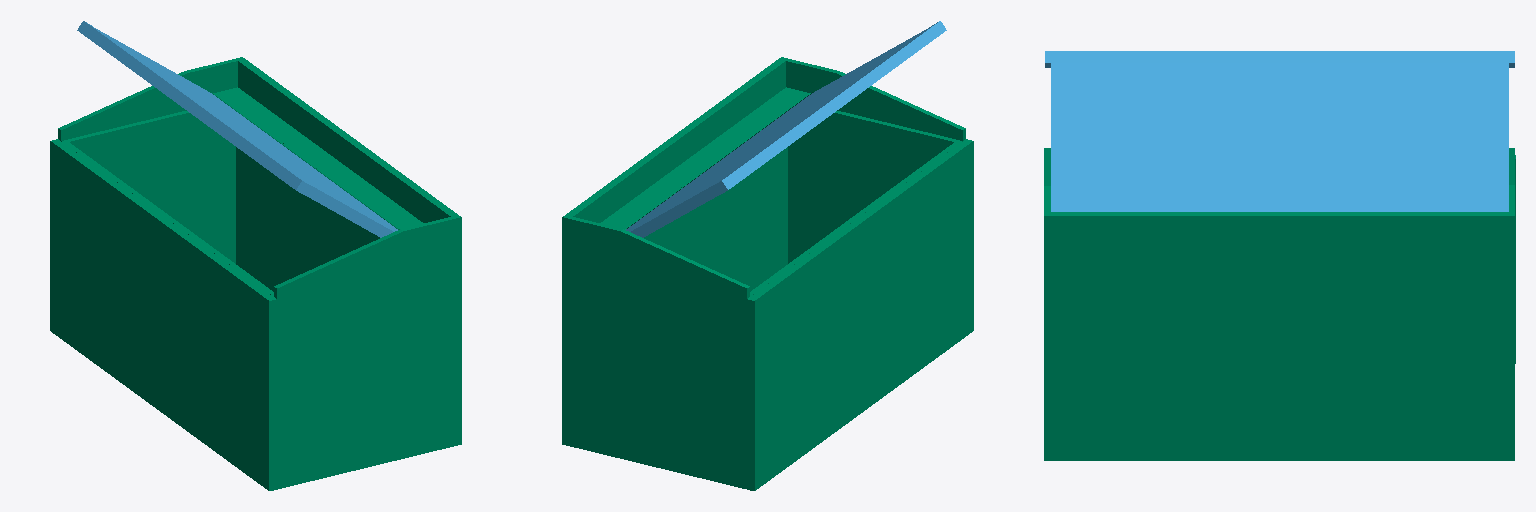
URDF robot description (partnet_c7a2224b009756cc226245d28c34a910):
<?xml version="1.0" ?>
<robot name="partnet_c7a2224b009756cc226245d28c34a910">
	<link name="base"/>
	<link name="link_0">
		<visual name="rotation_lid-1">
			<origin xyz="-0.7214450000000001 -0.30802655745340035 0.22906735067242812"/>
			<geometry>
				<mesh filename="textured_objs/original-5.obj"/>
			</geometry>
		</visual>
		<visual name="rotation_lid-1">
			<origin xyz="-0.7214450000000001 -0.30802655745340035 0.22906735067242812"/>
			<geometry>
				<mesh filename="textured_objs/original-6.obj"/>
			</geometry>
		</visual>
		<collision>
			<origin xyz="-0.7214450000000001 -0.30802655745340035 0.22906735067242812"/>
			<geometry>
				<mesh filename="textured_objs/original-5.obj"/>
			</geometry>
		</collision>
		<collision>
			<origin xyz="-0.7214450000000001 -0.30802655745340035 0.22906735067242812"/>
			<geometry>
				<mesh filename="textured_objs/original-6.obj"/>
			</geometry>
		</collision>
	</link>
	<joint name="joint_0" type="revolute">
		<origin xyz="0.7214450000000001 0.30802655745340035 -0.22906735067242812"/>
		<axis xyz="-1 0 0"/>
		<child link="link_0"/>
		<parent link="link_1"/>
		<limit lower="-0.6911503837897545" upper="1.5833626974092563"/>
	</joint>
	<link name="link_1">
		<visual name="base_body-2">
			<origin xyz="0 0 0"/>
			<geometry>
				<mesh filename="textured_objs/original-4.obj"/>
			</geometry>
		</visual>
		<visual name="base_body-2">
			<origin xyz="0 0 0"/>
			<geometry>
				<mesh filename="textured_objs/original-3.obj"/>
			</geometry>
		</visual>
		<visual name="base_body-2">
			<origin xyz="0 0 0"/>
			<geometry>
				<mesh filename="textured_objs/original-2.obj"/>
			</geometry>
		</visual>
		<visual name="base_body-2">
			<origin xyz="0 0 0"/>
			<geometry>
				<mesh filename="textured_objs/original-8.obj"/>
			</geometry>
		</visual>
		<visual name="base_body-2">
			<origin xyz="0 0 0"/>
			<geometry>
				<mesh filename="textured_objs/original-7.obj"/>
			</geometry>
		</visual>
		<collision>
			<origin xyz="0 0 0"/>
			<geometry>
				<mesh filename="textured_objs/original-4.obj"/>
			</geometry>
		</collision>
		<collision>
			<origin xyz="0 0 0"/>
			<geometry>
				<mesh filename="textured_objs/original-3.obj"/>
			</geometry>
		</collision>
		<collision>
			<origin xyz="0 0 0"/>
			<geometry>
				<mesh filename="textured_objs/original-2.obj"/>
			</geometry>
		</collision>
		<collision>
			<origin xyz="0 0 0"/>
			<geometry>
				<mesh filename="textured_objs/original-8.obj"/>
			</geometry>
		</collision>
		<collision>
			<origin xyz="0 0 0"/>
			<geometry>
				<mesh filename="textured_objs/original-7-part-0.obj"/>
			</geometry>
		</collision>
		<collision>
			<origin xyz="0 0 0"/>
			<geometry>
				<mesh filename="textured_objs/original-7-part-1.obj"/>
			</geometry>
		</collision>
		<collision>
			<origin xyz="0 0 0"/>
			<geometry>
				<mesh filename="textured_objs/original-7-part-2.obj"/>
			</geometry>
		</collision>
		<collision>
			<origin xyz="0 0 0"/>
			<geometry>
				<mesh filename="textured_objs/original-7-part-3.obj"/>
			</geometry>
		</collision>
		<collision>
			<origin xyz="0 0 0"/>
			<geometry>
				<mesh filename="textured_objs/original-7-part-4.obj"/>
			</geometry>
		</collision>
		<collision>
			<origin xyz="0 0 0"/>
			<geometry>
				<mesh filename="textured_objs/original-7-part-5.obj"/>
			</geometry>
		</collision>
	</link>
	<joint name="joint_1" type="fixed">
		<origin rpy="1.570796326794897 0 -1.570796326794897" xyz="0 0 0"/>
		<child link="link_1"/>
		<parent link="base"/>
	</joint>
</robot>

--- Facts derived from the render (not from the file) ---
3 views of the same robot in one strip: view 1: azimuth 30°, elevation 25°; view 2: azimuth 150°, elevation 25°; view 3: azimuth 270°, elevation 25° (orthographic).
Robot: partnet_c7a2224b009756cc226245d28c34a910 — 3 links, 2 joints (1 revolute, 1 fixed); root link base; default pose: every joint at zero.
Links seen in each view (by area): view 1: link_1, link_0; view 2: link_1, link_0; view 3: link_1, link_0.
Link boxes in pixels (x1=…): link_1: x1=50, y1=57, x2=461, y2=490; link_0: x1=77, y1=21, x2=397, y2=237; link_1: x1=562, y1=57, x2=973, y2=490; link_0: x1=626, y1=21, x2=946, y2=237; link_1: x1=1044, y1=148, x2=1515, y2=460; link_0: x1=1045, y1=51, x2=1514, y2=211.
Bounding box of the posed robot: 0.7511 × 1.48 × 1.13 m (x, y, z).
7 mesh visuals loaded from 7 distinct referenced files (7 OBJ).
